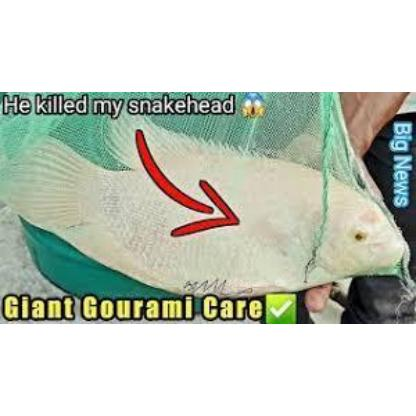gurame: (27, 117, 398, 285)
